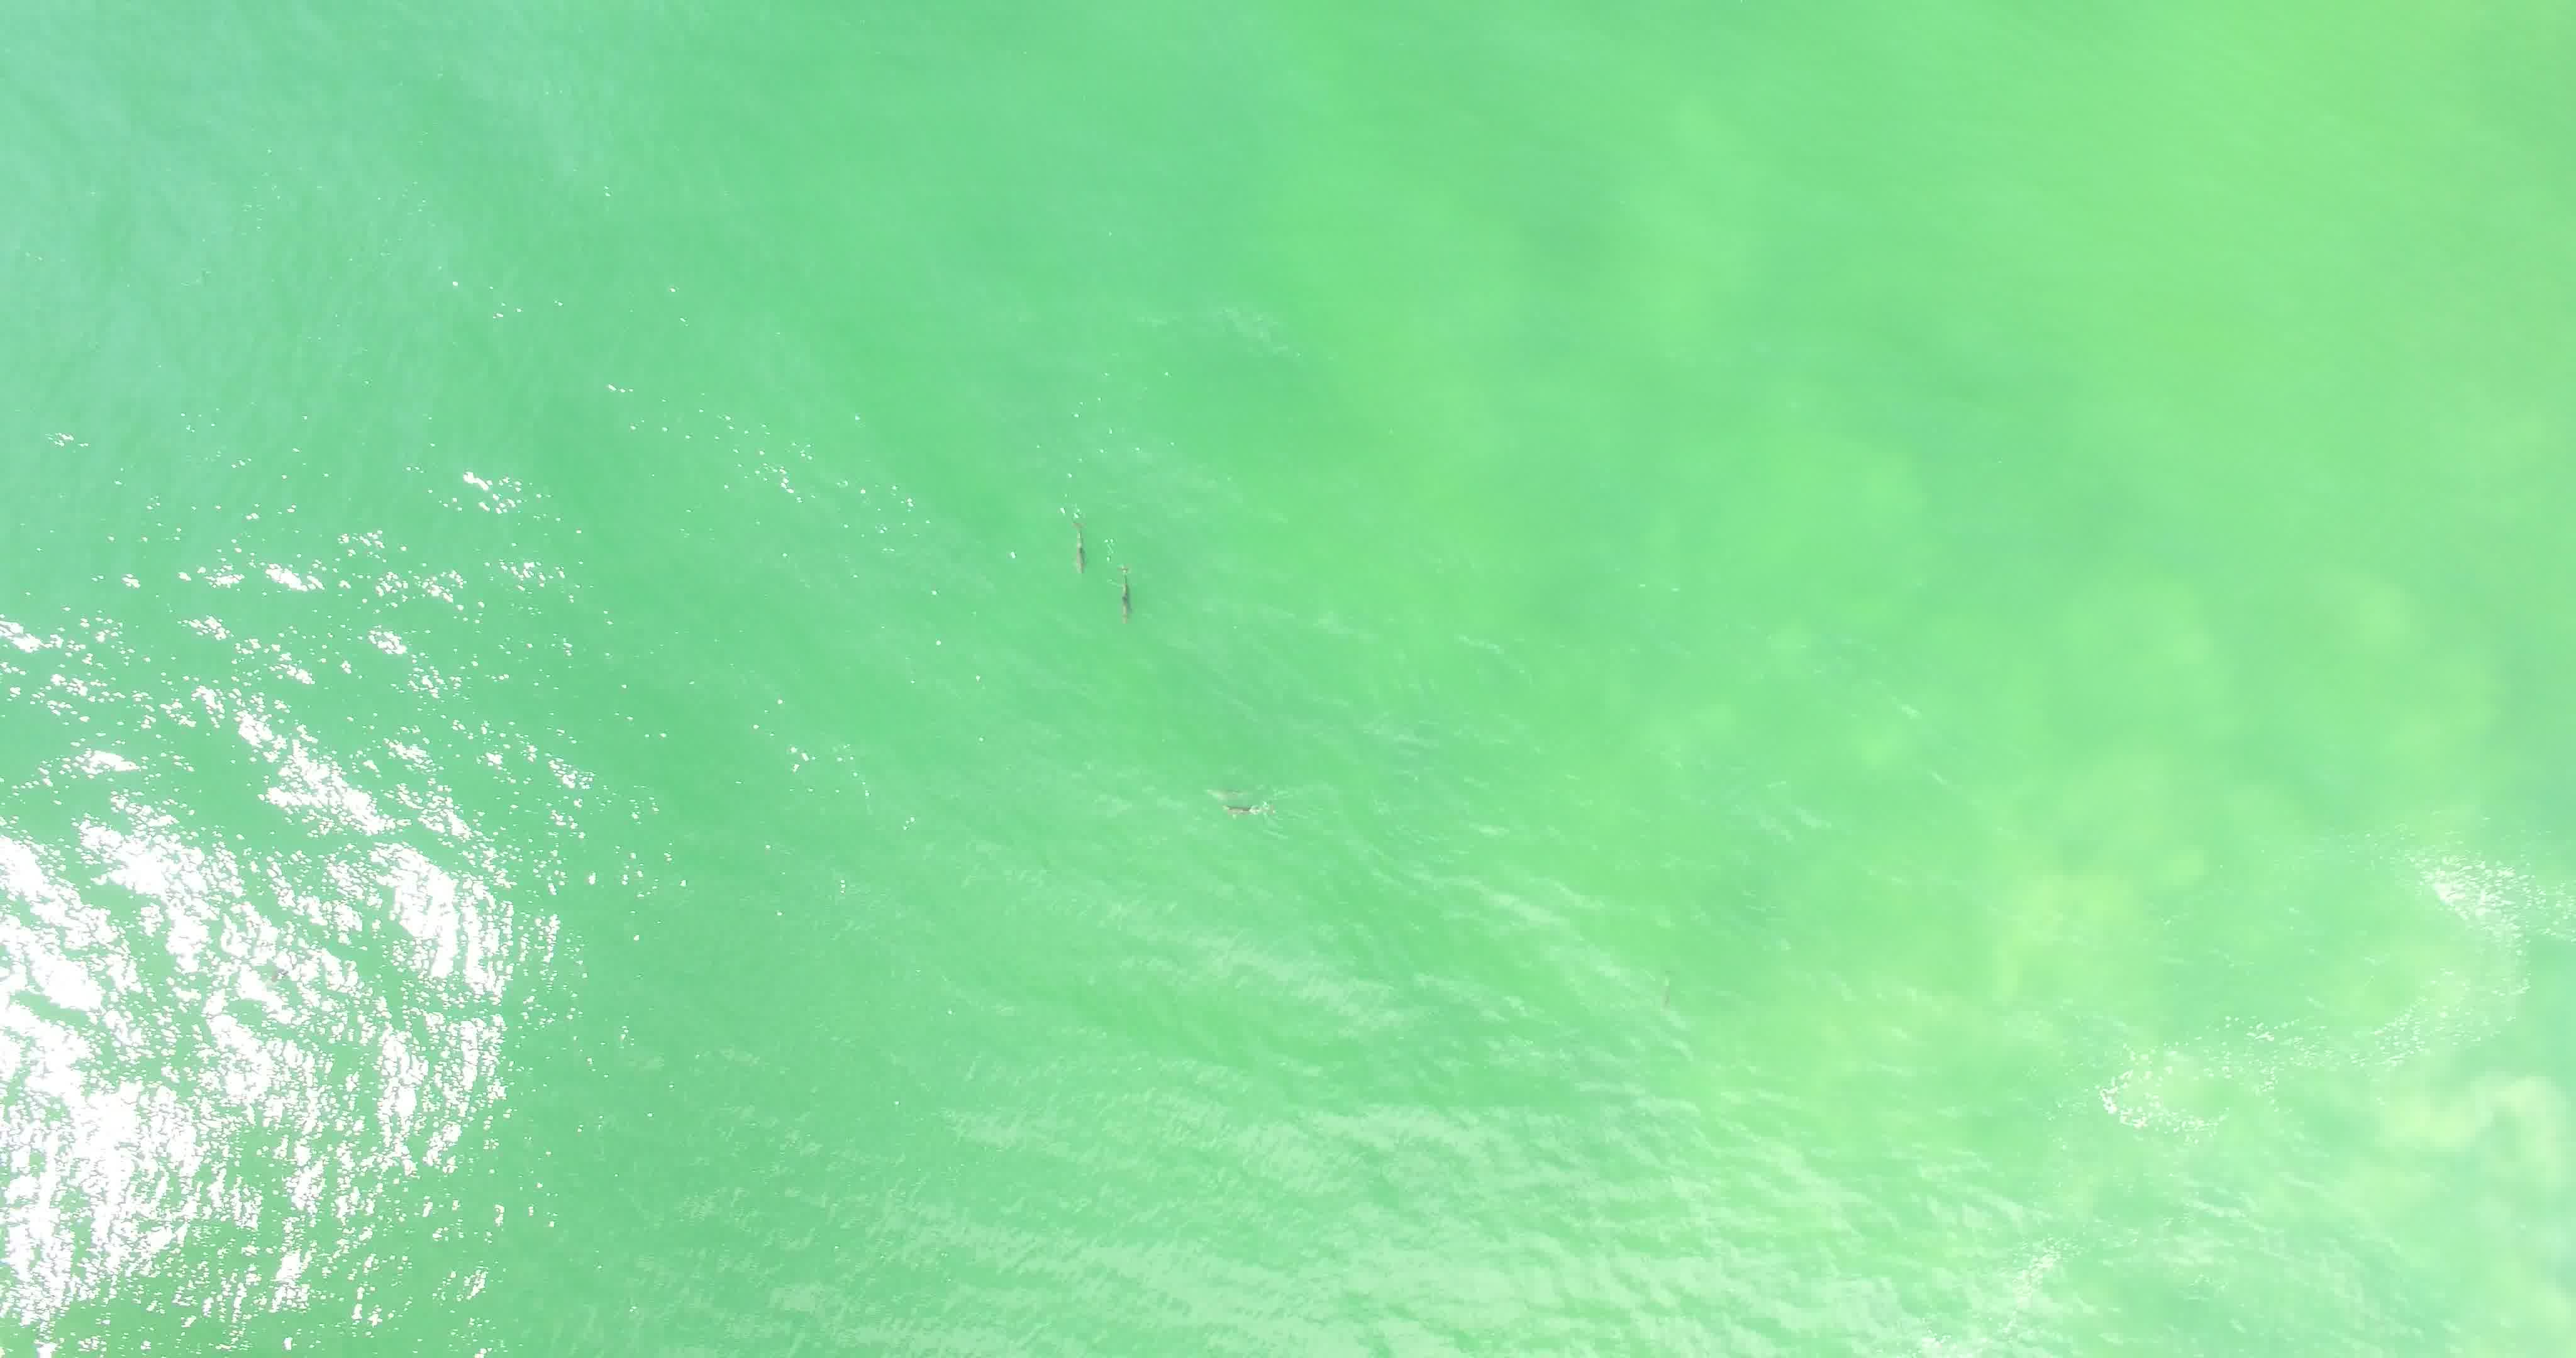dolphin: (1191, 758, 1286, 828), (1038, 491, 1099, 584), (1104, 535, 1141, 625)
